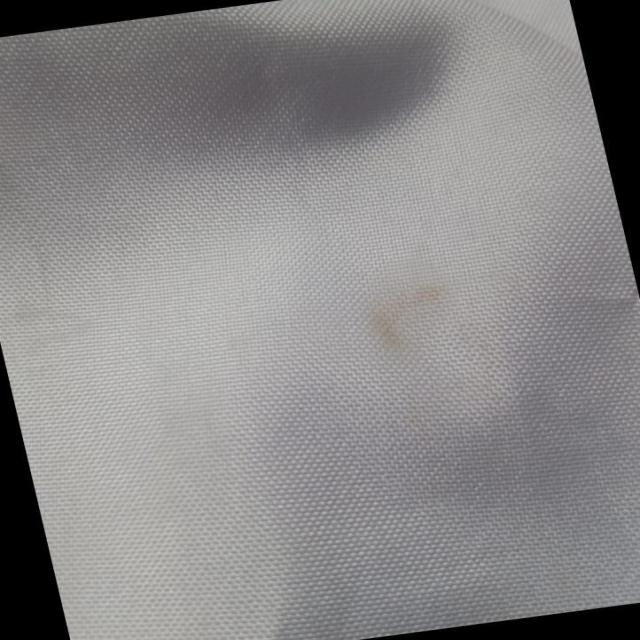stain: (354, 274, 464, 362)
